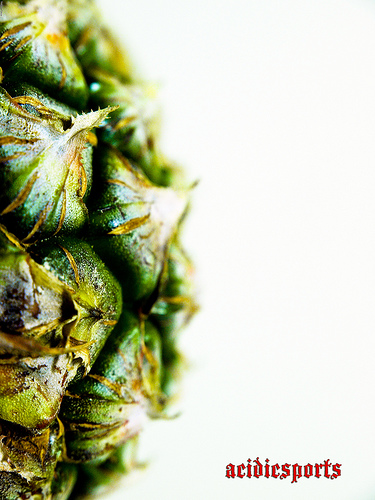pineapple: (0, 0, 203, 498)
